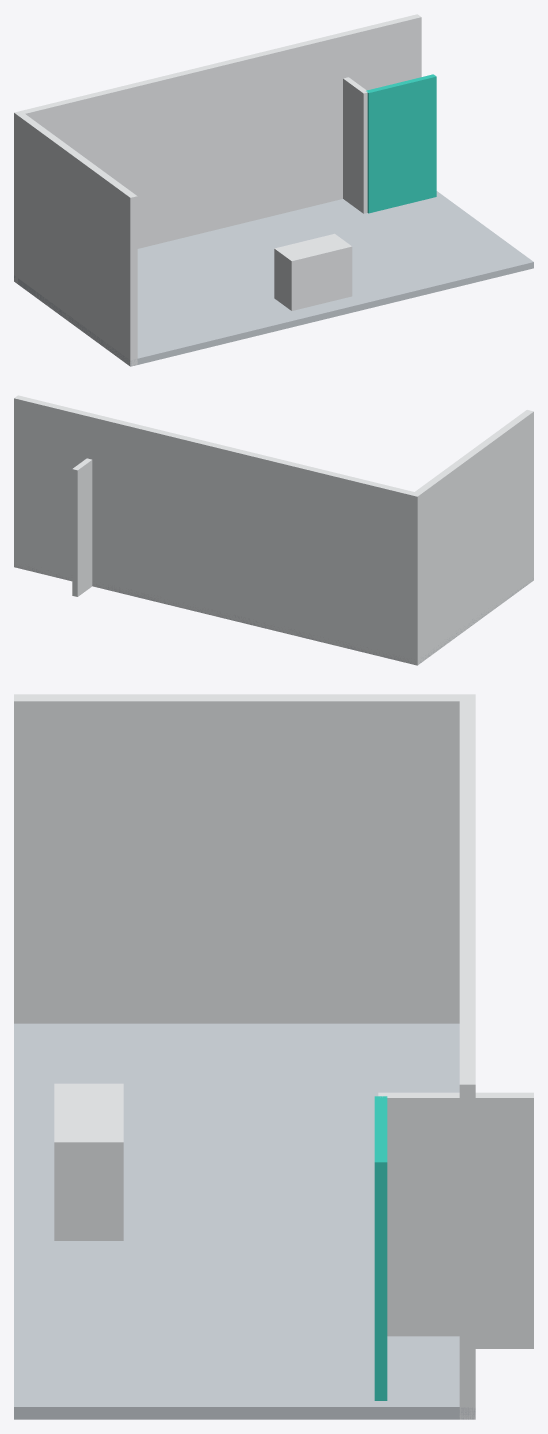
3 renders of one model, top to bottom at view 1: azimuth 30°, elevation 25°; view 2: azimuth 150°, elevation 25°; view 3: azimuth 270°, elevation 25°, orthographic. The views are drawn at different scales.
Parts seen in each view (by area): view 1: Exhibition Booth Concept; view 2: Exhibition Booth Concept; view 3: Exhibition Booth Concept.
Part boxes in pixels (x1,y1,x2,y2): Exhibition Booth Concept: (14,14,533,366); Exhibition Booth Concept: (14,395,533,665); Exhibition Booth Concept: (14,694,533,1419).
Bounding box in the file's own units: 8 × 3.2 × 4.51.
